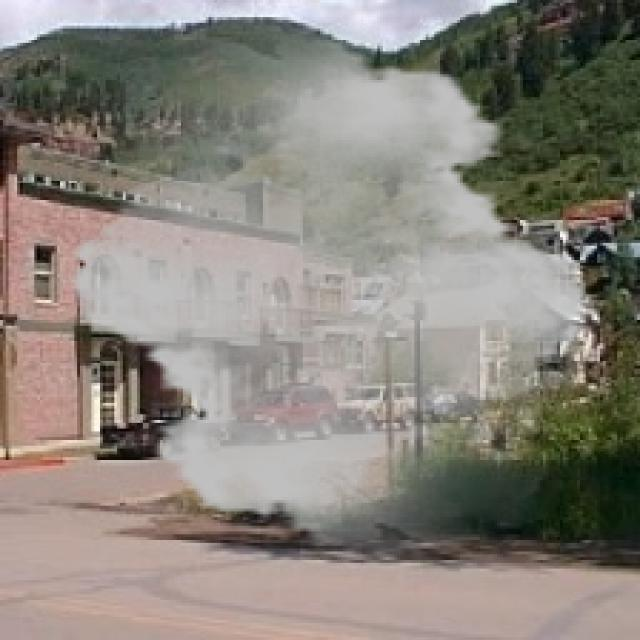smoke: (49, 26, 608, 557)
